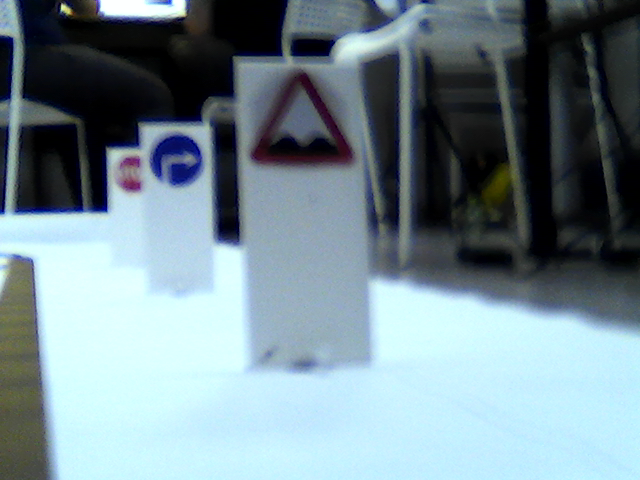Nerov: (250, 64, 357, 169)
Right: (151, 134, 200, 188)
